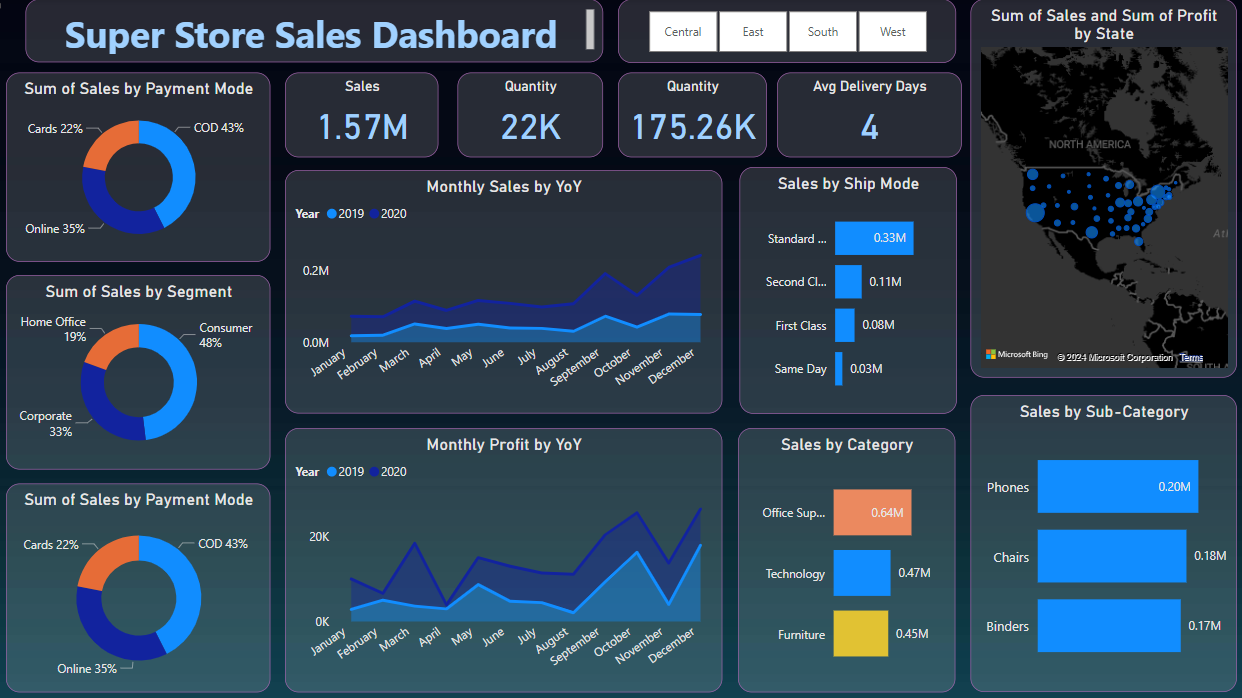

What the dashboard file says about the page in this screenshot:
{"tool":"powerbi","page":{"name":"Page 1","canvas":[1280,720],"ordinal":0},"visuals":[{"type":"clusteredBarChart","title":" Sales by Category","fields":{"Category":["SuperStore_Sales_Dataset.Category"],"Y":["Sum(SuperStore_Sales_Dataset.Sales)"]},"box":[763.3,438.3,221.7,270],"z":0},{"type":"clusteredBarChart","title":" Sales by Sub-Category","fields":{"Category":["SuperStore_Sales_Dataset.Sub-Category"],"Y":["Sum(SuperStore_Sales_Dataset.Sales)"]},"box":[1000,405,271.7,303.3],"z":1000},{"type":"clusteredBarChart","title":" Sales by Ship Mode","fields":{"Category":["SuperStore_Sales_Dataset.Ship Mode"],"Y":["Sum(SuperStore_Sales_Dataset.Sales)"]},"box":[765,171.7,221.7,251.7],"z":2000},{"type":"stackedAreaChart","title":"Monthly Sales by YoY","fields":{"Y":["Sum(SuperStore_Sales_Dataset.Sales)"],"Category":["SuperStore_Sales_Dataset.Order Date.Variation.Date Hierarchy.Month","SuperStore_Sales_Dataset.Order Date.Variation.Date Hierarchy.Day"],"Series":["SuperStore_Sales_Dataset.Order Date.Variation.Date Hierarchy.Year"]},"box":[300,175,446.7,248.3],"z":3000},{"type":"stackedAreaChart","title":"Monthly Profit by YoY","fields":{"Category":["SuperStore_Sales_Dataset.Order Date.Variation.Date Hierarchy.Month","SuperStore_Sales_Dataset.Order Date.Variation.Date Hierarchy.Day"],"Series":["SuperStore_Sales_Dataset.Order Date.Variation.Date Hierarchy.Year"],"Y":["Sum(SuperStore_Sales_Dataset.Profit)"]},"box":[300,438.3,446.7,270],"z":4000},{"type":"actionButton","box":[0,0,100,40],"z":5000},{"type":"map","fields":{"Category":["SuperStore_Sales_Dataset.State"],"Size":["Sum(SuperStore_Sales_Dataset.Sales)"]},"box":[1000,0,271.7,386.7],"z":6000},{"type":"donutChart","fields":{"Category":["SuperStore_Sales_Dataset.Segment"],"Y":["Sum(SuperStore_Sales_Dataset.Sales)"]},"box":[15,281.7,270,198.3],"z":7000},{"type":"donutChart","fields":{"Category":["SuperStore_Sales_Dataset.Payment Mode"],"Y":["Sum(SuperStore_Sales_Dataset.Sales)"]},"box":[15,495,270,213.3],"z":8000},{"type":"slicer","fields":{"Values":["SuperStore_Sales_Dataset.Region"]},"box":[640,0,345,65],"z":9000},{"type":"textbox","box":[35,0,590,65],"z":10000},{"type":"card","title":"Sales","fields":{"Values":["Sum(SuperStore_Sales_Dataset.Sales)"]},"box":[300,75,156.7,86.7],"z":11000},{"type":"card","title":"Quantity","fields":{"Values":["Sum(SuperStore_Sales_Dataset.Quantity)"]},"box":[476.7,75,148.3,86.7],"z":12000},{"type":"card","title":"Quantity","fields":{"Values":["Sum(SuperStore_Sales_Dataset.Profit)"]},"box":[640,75,151.7,86.7],"z":13000},{"type":"card","title":"Avg Delivery Days","fields":{"Values":["Avg(SuperStore_Sales_Dataset.AvgDelivery)"]},"box":[803.3,75,188.3,86.7],"z":14000},{"type":"donutChart","fields":{"Y":["Sum(SuperStore_Sales_Dataset.Sales)"],"Category":["SuperStore_Sales_Dataset.Payment Mode"]},"box":[15,75,270,193.3],"z":14001}]}

Visuals, with their boxes in screenshot pixels (x1, y1, x2, y2), scaled from the page's 1280x720 canvas onto the 1242x698 screenshot:
" Sales by Category" clusteredBarChart: Rect(741, 425, 956, 687)
" Sales by Sub-Category" clusteredBarChart: Rect(970, 393, 1234, 687)
" Sales by Ship Mode" clusteredBarChart: Rect(742, 166, 957, 410)
"Monthly Sales by YoY" stackedAreaChart: Rect(291, 170, 725, 410)
"Monthly Profit by YoY" stackedAreaChart: Rect(291, 425, 725, 687)
actionButton: Rect(0, 0, 97, 39)
map - SuperStore_Sales_Dataset.State x Sum(SuperStore_Sales_Dataset.Sales): Rect(970, 0, 1234, 375)
donutChart - SuperStore_Sales_Dataset.Segment x Sum(SuperStore_Sales_Dataset.Sales): Rect(15, 273, 277, 465)
donutChart - SuperStore_Sales_Dataset.Payment Mode x Sum(SuperStore_Sales_Dataset.Sales): Rect(15, 480, 277, 687)
slicer - SuperStore_Sales_Dataset.Region: Rect(621, 0, 956, 63)
textbox: Rect(34, 0, 606, 63)
"Sales" card: Rect(291, 73, 443, 157)
"Quantity" card: Rect(463, 73, 606, 157)
"Quantity" card: Rect(621, 73, 768, 157)
"Avg Delivery Days" card: Rect(779, 73, 962, 157)
donutChart - Sum(SuperStore_Sales_Dataset.Sales) x SuperStore_Sales_Dataset.Payment Mode: Rect(15, 73, 277, 260)
